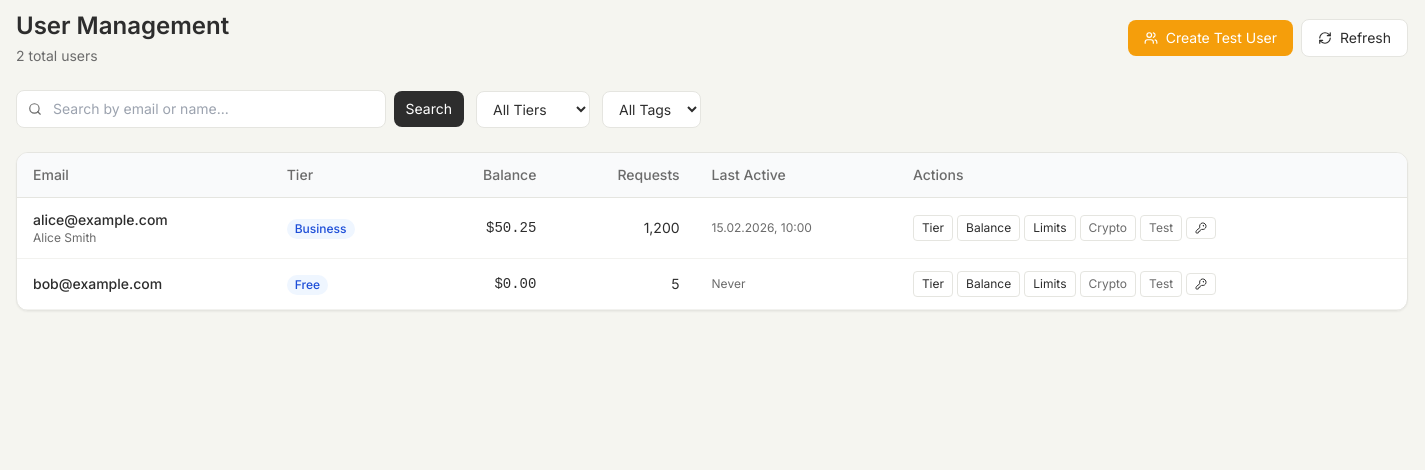
Test: AdminUsersPage › clicking same user row collapses detail panel
Click the text "alice@example.com": (100, 220) [33, 210, 168, 230]
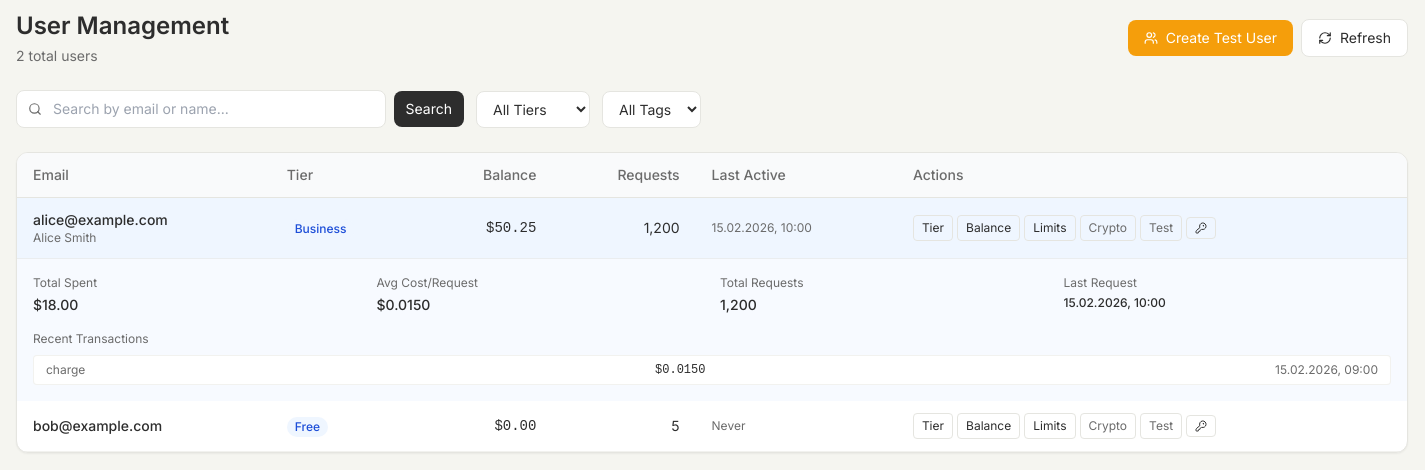
Result: the text "Total Spent" is shown at [33, 275, 97, 290]
# Click again to collapse
Click the text "alice@example.com": (100, 220) [33, 210, 168, 230]
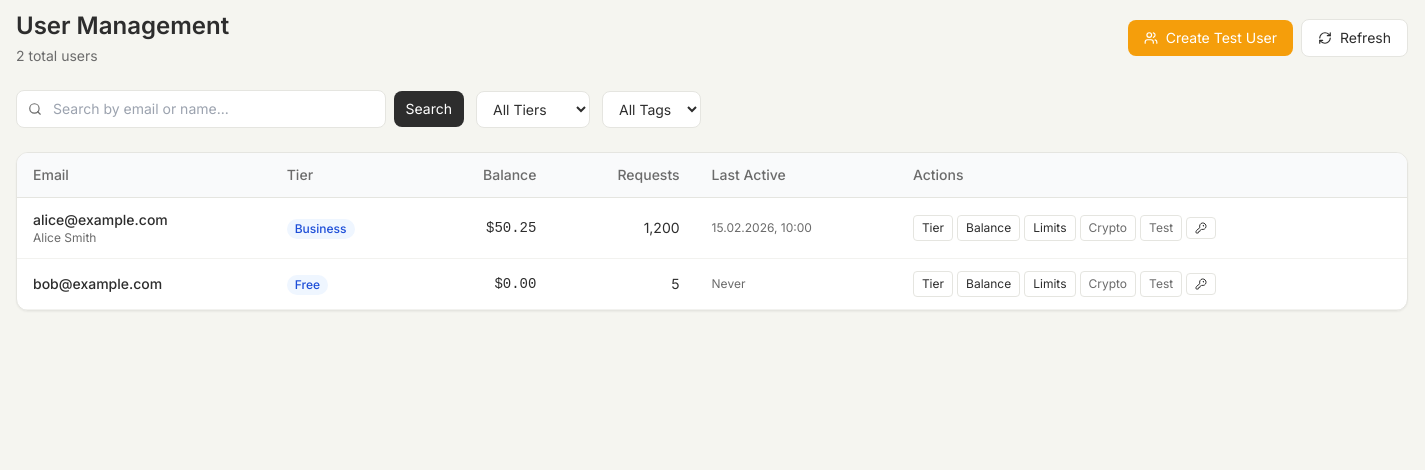
Result: the text "Total Spent" is gone
